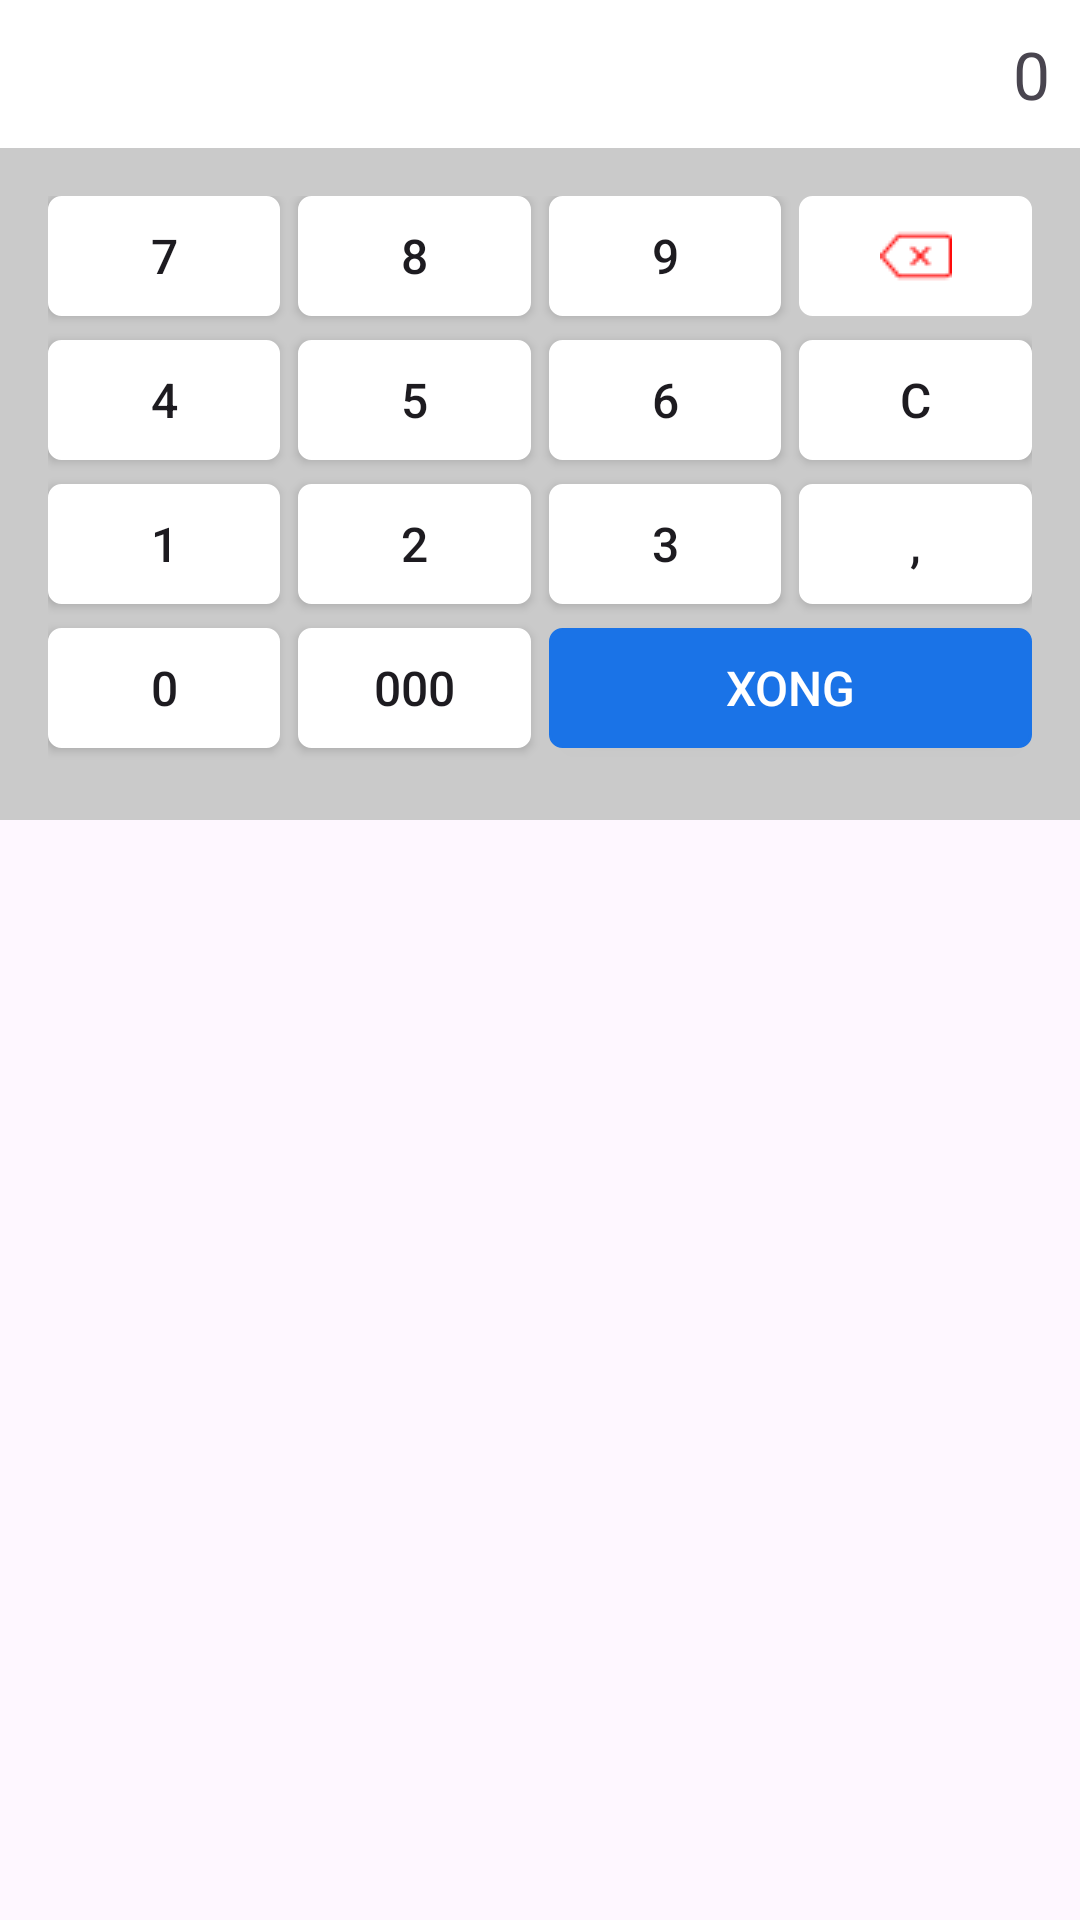

Where icons sit on this 1080×1920 app screen, as BBox(x1, y1, x2, y2):
Xóa: BBox(799, 196, 1032, 316)
